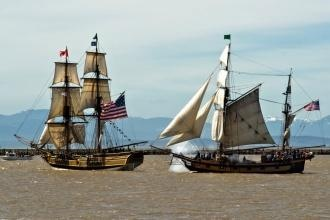fanchuan: (156, 37, 330, 172), (38, 33, 142, 171)
otherboat: (1, 145, 41, 160)
